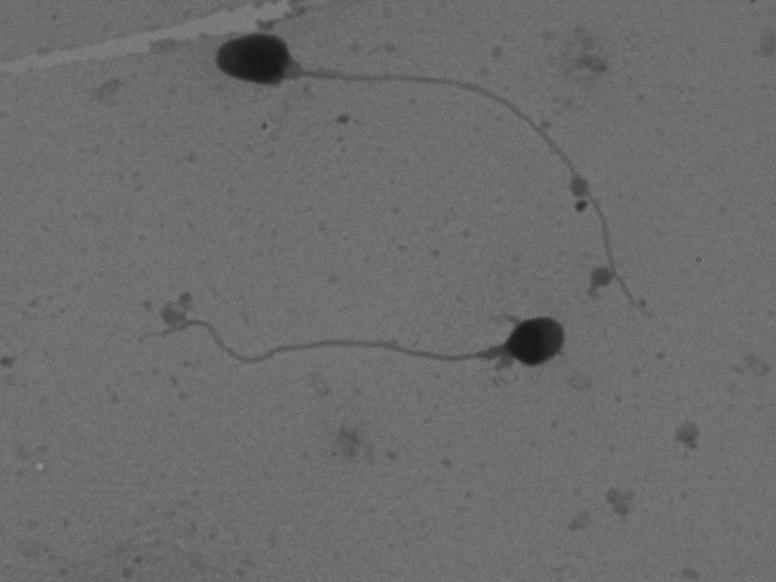Abnormal: (184, 11, 650, 250), (111, 265, 593, 422)
